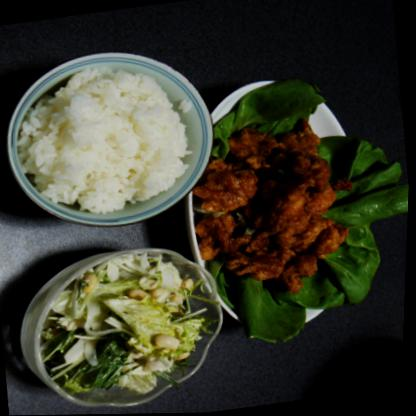rice ball: (7, 51, 205, 223)
